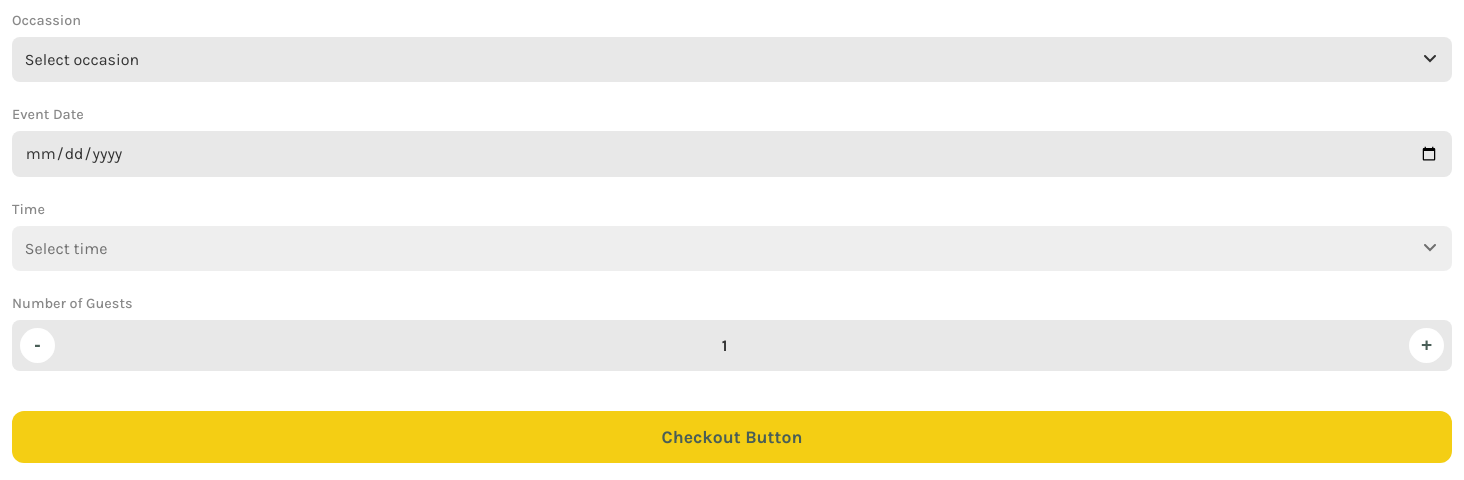
Test: BookingForm › increments and decrements guest count
Expected: the number field labelled "Number of Guests" holds "1", [71, 328, 1393, 363]
Click the button named "increase guest count" at (1426, 345), box [1409, 328, 1444, 363]
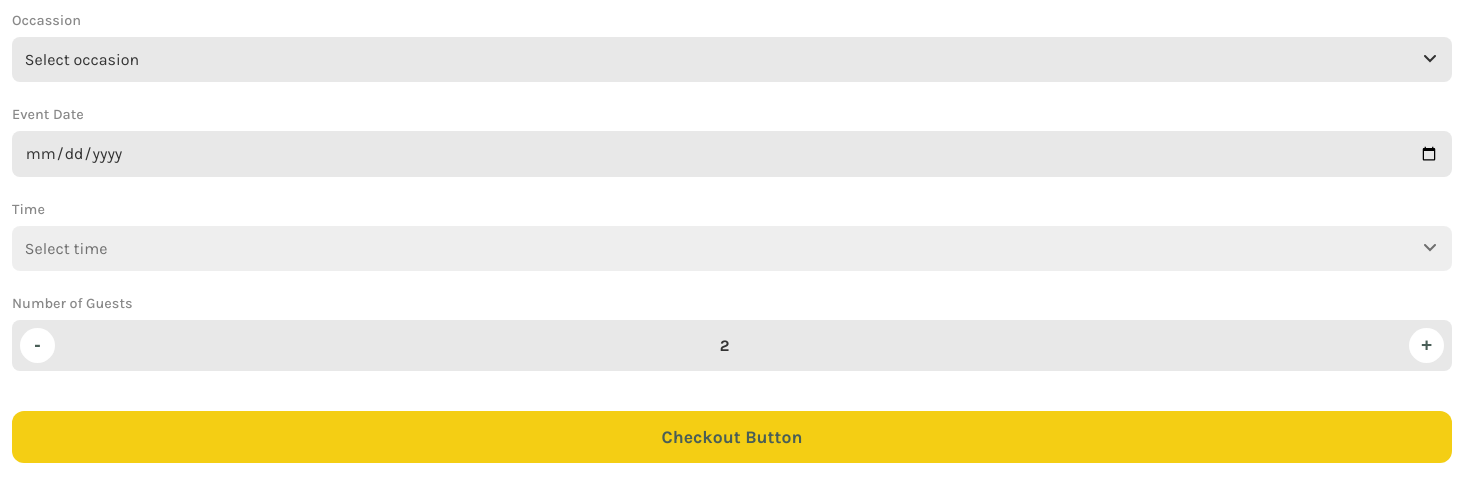
Now the number field labelled "Number of Guests" holds "2", box [71, 328, 1393, 363]
Click the button named "increase guest count" at (1426, 345), box [1409, 328, 1444, 363]
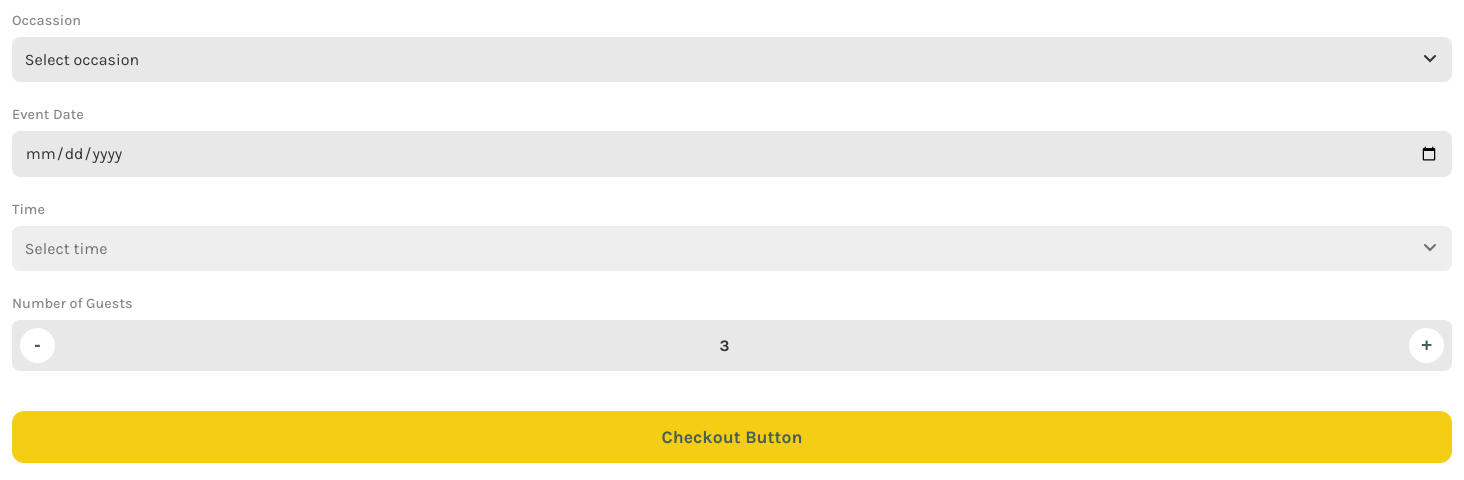
Now the number field labelled "Number of Guests" holds "3", box [71, 328, 1393, 363]
Click the button named "decrease guest count" at (38, 345), box [20, 328, 55, 363]
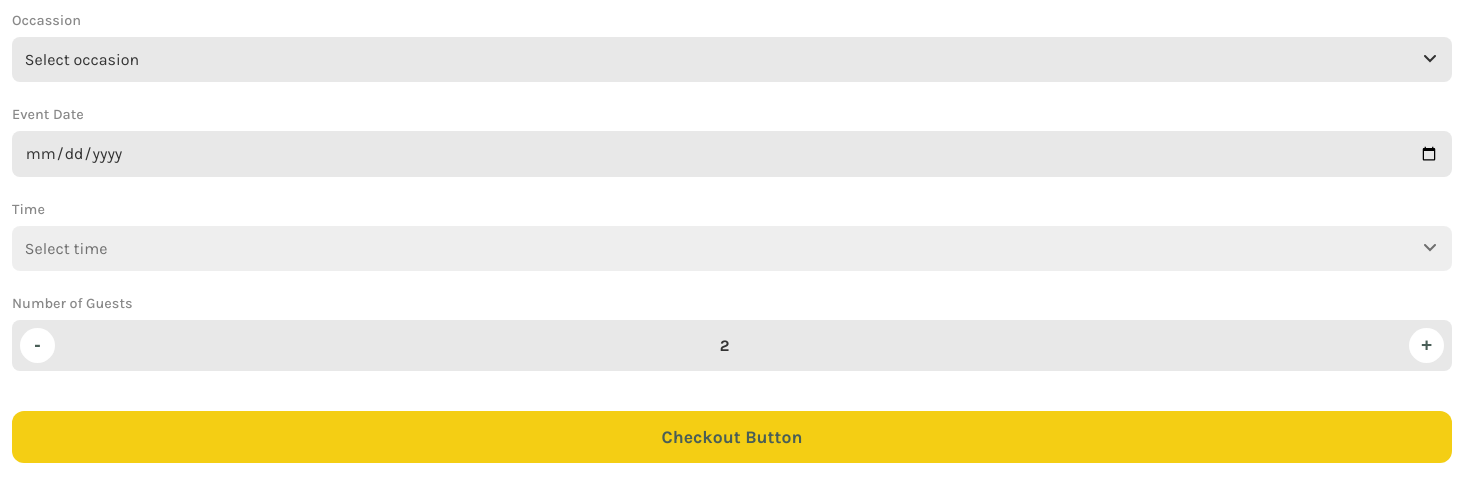
Now the number field labelled "Number of Guests" holds "2", box [71, 328, 1393, 363]
